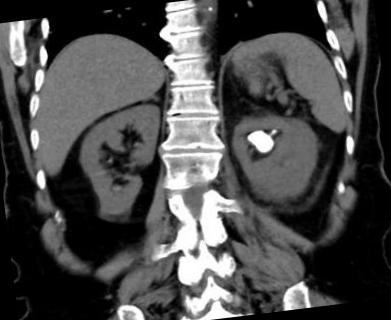Tas_Var: (246, 125, 276, 156), (270, 126, 278, 136)
